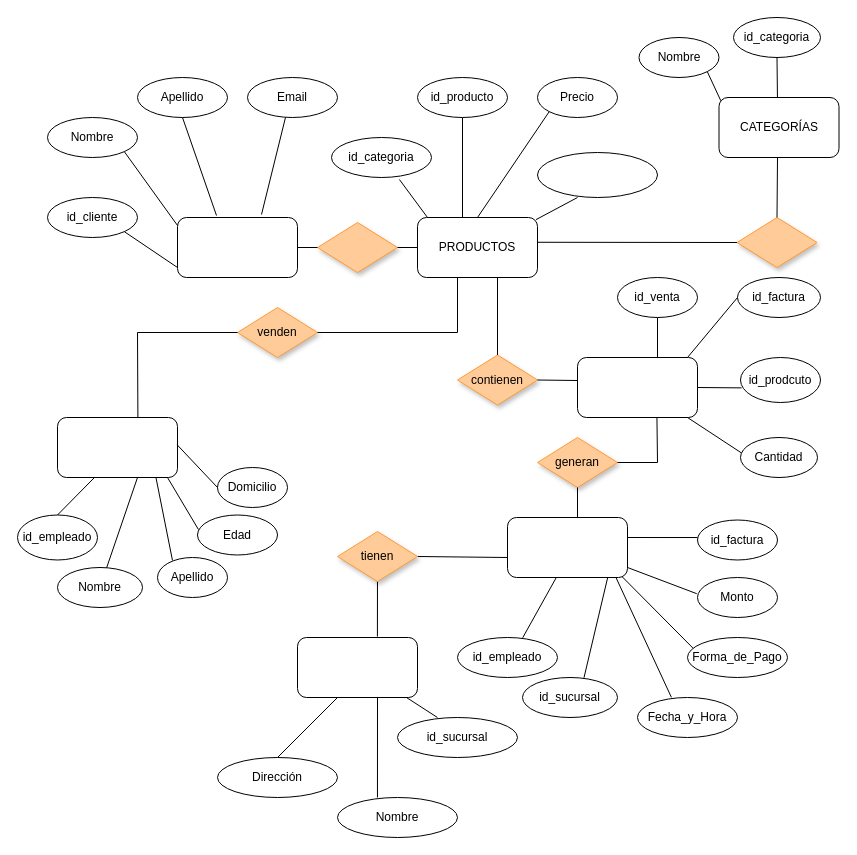
Image size: 857x855. Some labels were removed from this diagram. The centre of each missing label's shape, as x and y in pixels:
"CLIENTES" belongs at (x=237, y=247).
"contiene" belongs at (x=777, y=243).
"Descripción" belongs at (x=597, y=175).
"EMPLEADOS" belongs at (x=117, y=447).
"FACTURAS" belongs at (x=567, y=547).
"obtienen" belongs at (x=358, y=249).
"SUCURSAL" belongs at (x=357, y=667).
"VENTAS" belongs at (x=637, y=387).
